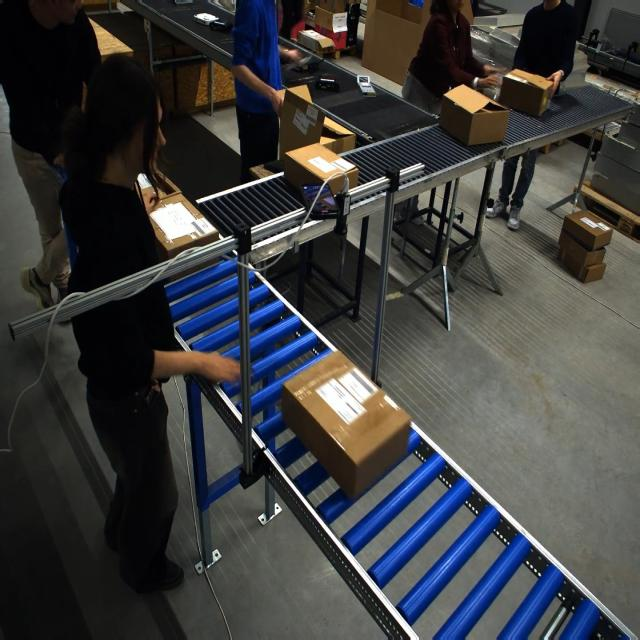box: (288, 355, 403, 495), (137, 172, 217, 267), (439, 83, 510, 147), (283, 143, 349, 197)
product: (356, 74, 375, 96), (314, 77, 338, 92), (194, 12, 219, 25), (209, 19, 232, 32)
